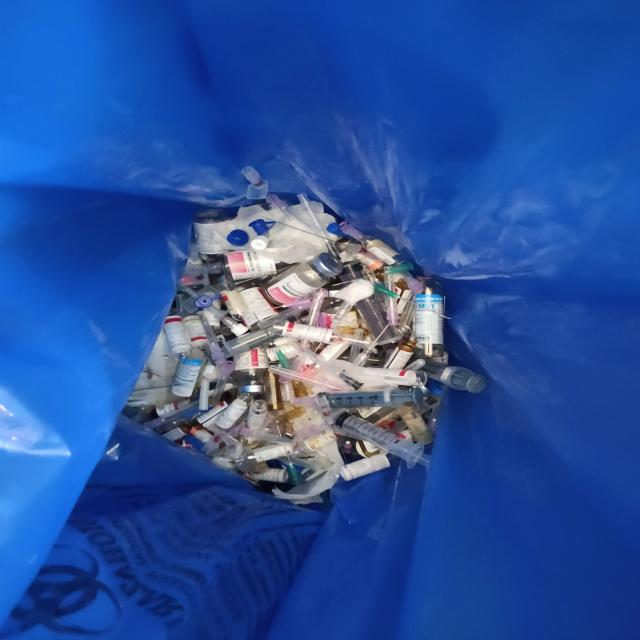B3: (336, 411, 426, 464), (264, 252, 342, 306), (260, 214, 352, 253), (179, 282, 248, 334), (374, 282, 455, 320), (296, 192, 343, 255), (222, 281, 280, 326), (251, 310, 296, 368), (247, 168, 293, 223), (306, 346, 364, 388), (414, 292, 444, 360), (277, 319, 347, 347), (330, 388, 428, 408), (273, 423, 303, 484), (438, 362, 489, 396), (222, 325, 270, 361), (224, 250, 281, 280), (193, 210, 225, 260), (359, 297, 396, 340), (359, 236, 409, 266), (207, 357, 235, 410), (172, 356, 202, 398), (341, 455, 394, 477), (144, 403, 204, 422), (164, 316, 189, 360), (240, 354, 267, 394), (218, 396, 250, 428), (385, 340, 415, 370), (184, 314, 210, 348), (378, 368, 427, 386), (353, 346, 379, 372), (338, 261, 368, 283), (249, 467, 289, 483), (247, 398, 267, 428), (336, 368, 364, 387), (190, 425, 212, 444), (168, 422, 189, 440)
